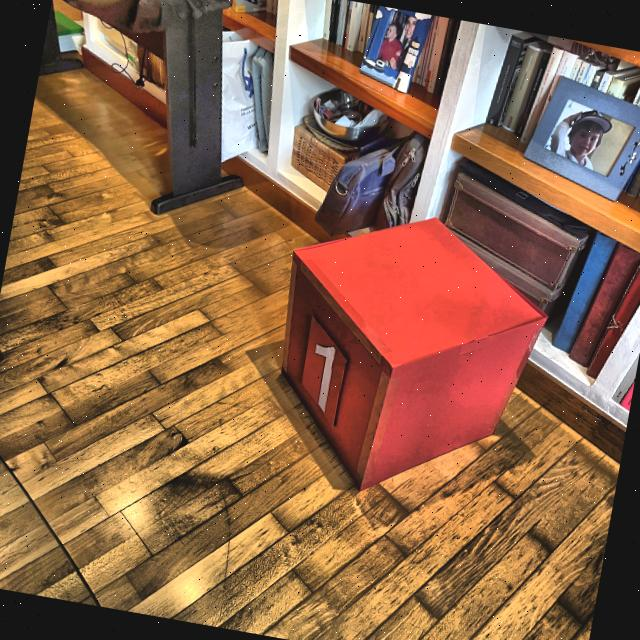one: (302, 340, 342, 416)
red box: (253, 195, 562, 518)
